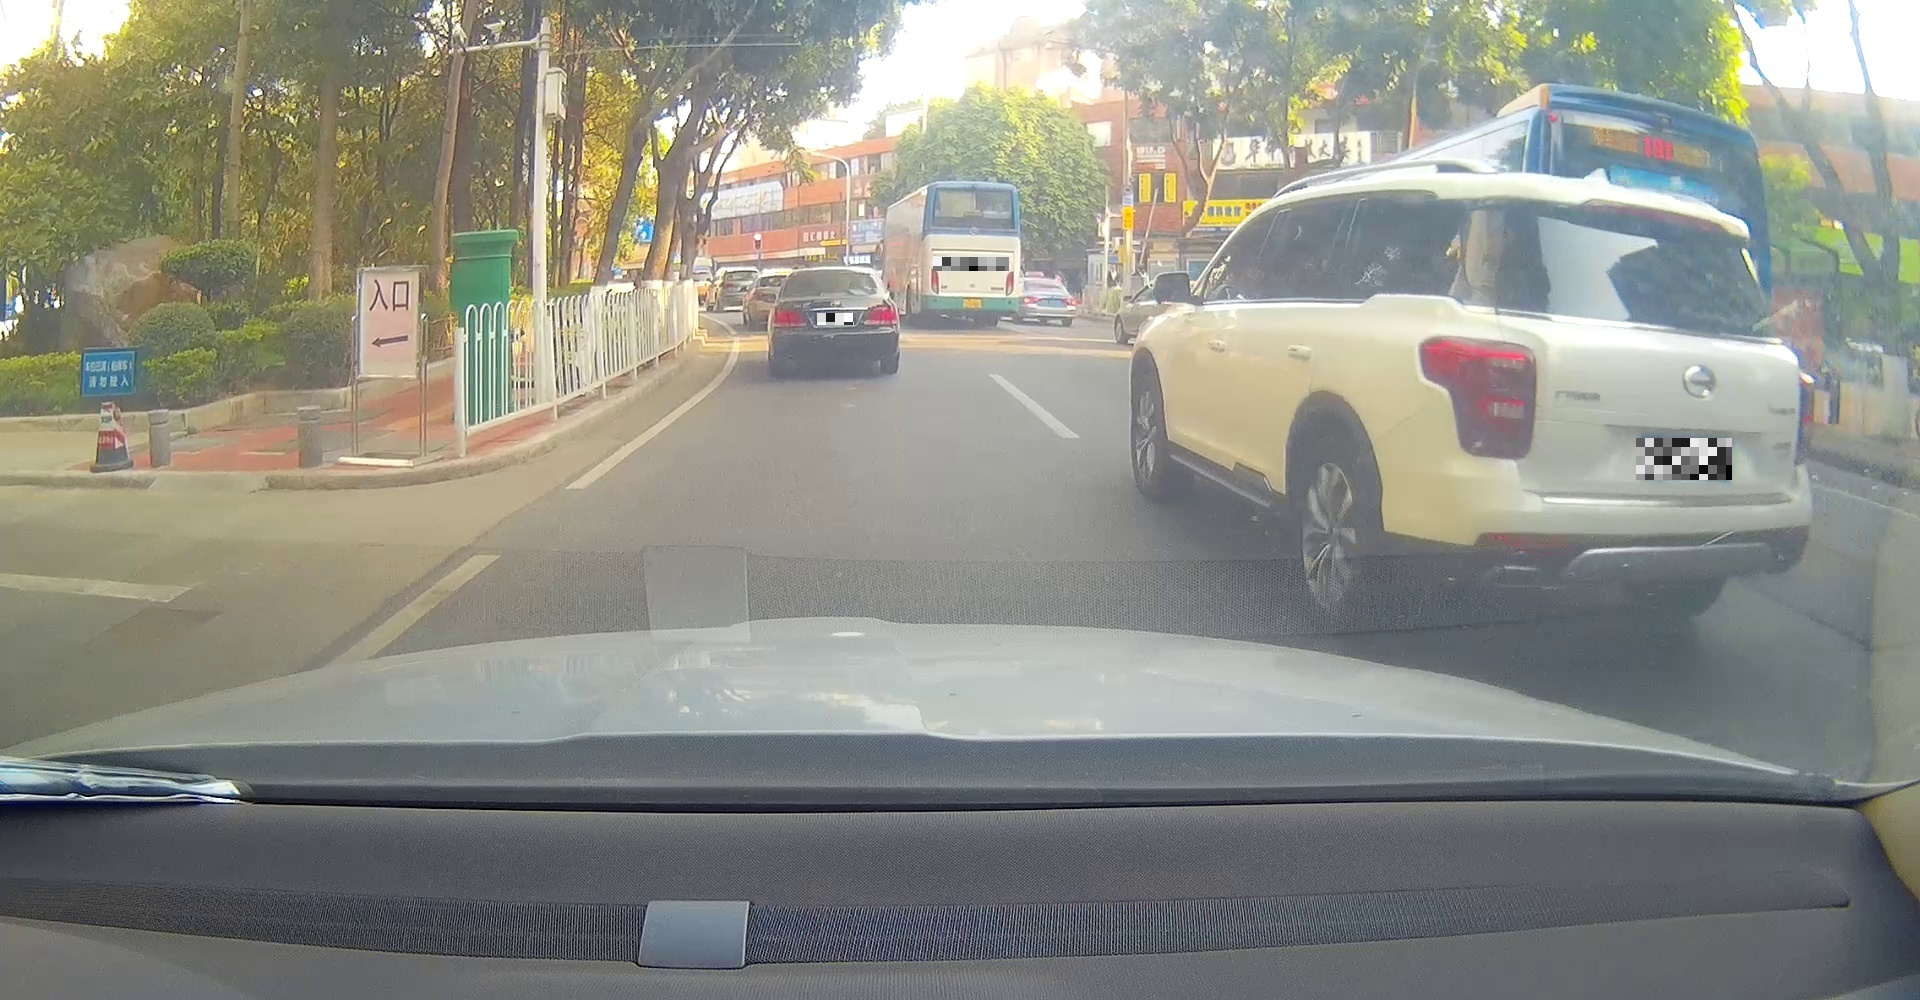L_light: (1416, 332, 1537, 459), (771, 308, 808, 327), (931, 268, 938, 293)
R_light: (1793, 372, 1817, 464), (863, 305, 899, 325), (1004, 272, 1013, 294)
T_light: (1611, 212, 1680, 226), (964, 212, 984, 217), (822, 293, 846, 297)
day-no: (1415, 170, 1818, 624), (924, 181, 1021, 327), (771, 266, 899, 373)
plate_1: (817, 313, 855, 325)
plate_2: (933, 258, 1010, 272)
plate_3: (1636, 438, 1732, 480)
